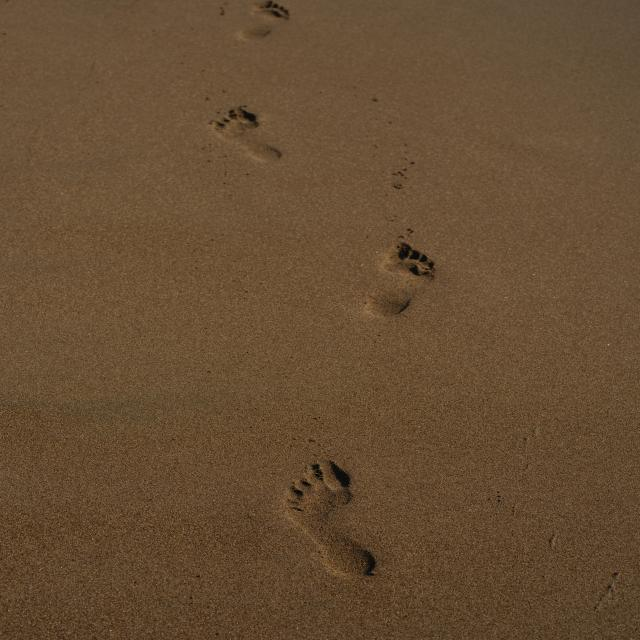human_footprint: (103, 15, 555, 607)
